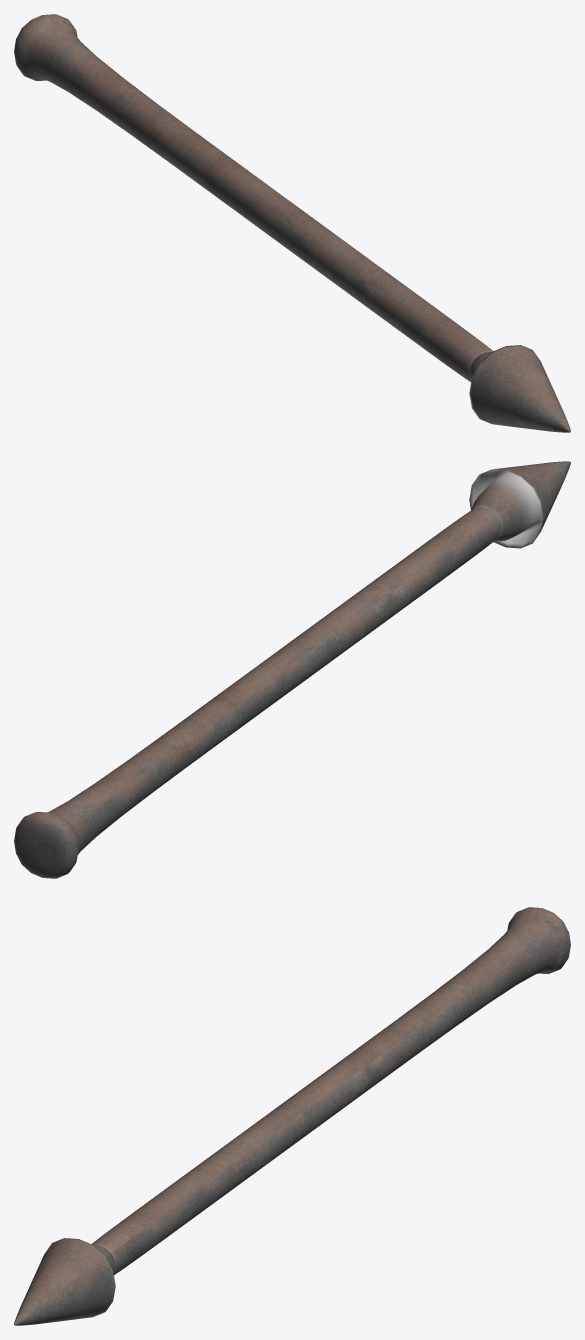
File: ballistaDart.glb
The picture shows the model from 3 angles, top to bottom: view 1: azimuth 30°, elevation 25°; view 2: azimuth 150°, elevation 25°; view 3: azimuth 330°, elevation 25°; orthographic projection.
Visible parts, largest first — view 1: spear; view 2: spear; view 3: spear.
Part boxes in pixels (box(x1,y1,x2,y2)): spear: box(14, 14, 570, 432); spear: box(14, 461, 570, 878); spear: box(14, 907, 570, 1325).
Size of the model in its own units: 0.9722 by 0.9722 by 12.16.
1 material, 1 textured.
